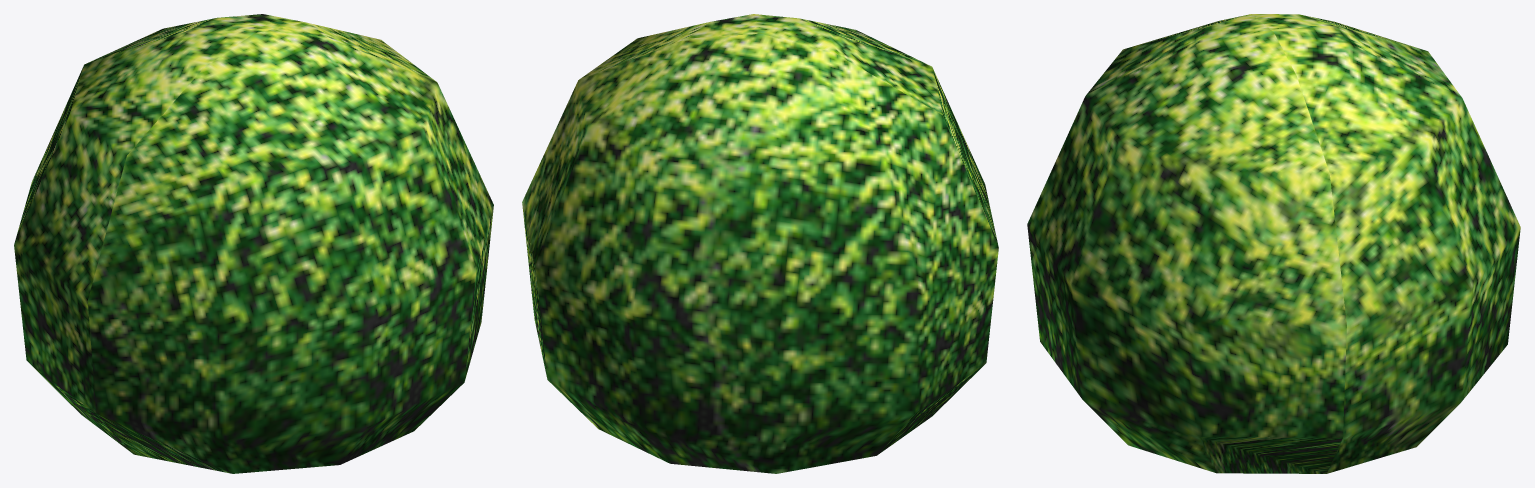
Rendered from bush_Sphere_01.obj.
3 views of the same model, side by side, from view 1: azimuth 30°, elevation 25°; view 2: azimuth 150°, elevation 25°; view 3: azimuth 270°, elevation 25° (orthographic).
Parts seen in each view (by area): view 1: default; view 2: default; view 3: default.
Part boxes in pixels (box(x1,y1,x2,y2)): default: box(14, 14, 493, 473); default: box(522, 14, 998, 473); default: box(1027, 14, 1520, 473).
Bounding box in the file's own units: 407 × 352 × 426.
